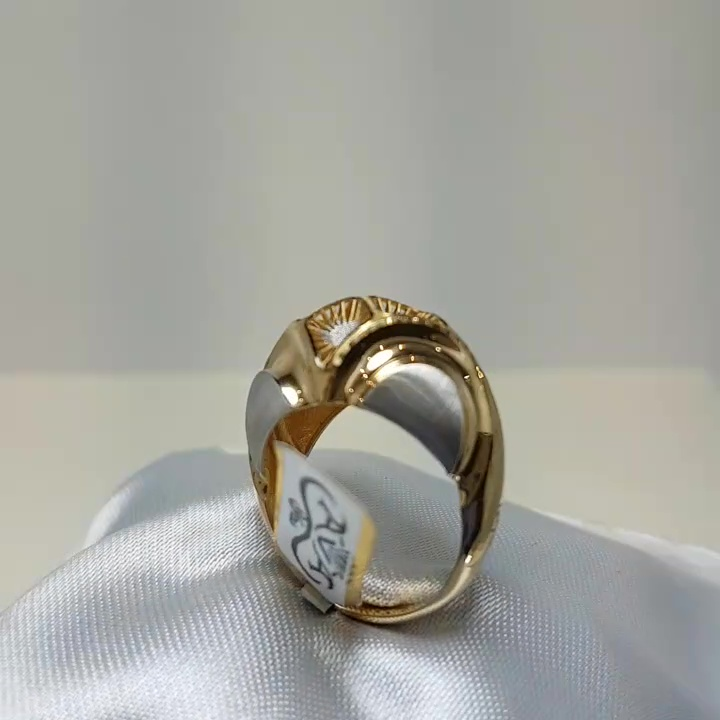Ring 2: (213, 251, 521, 637)
